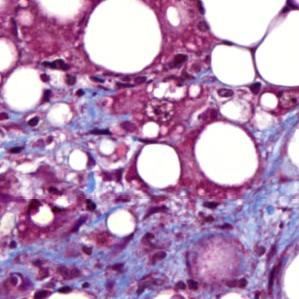steatosis: (86, 2, 161, 73), (198, 119, 260, 185), (135, 141, 184, 192)
